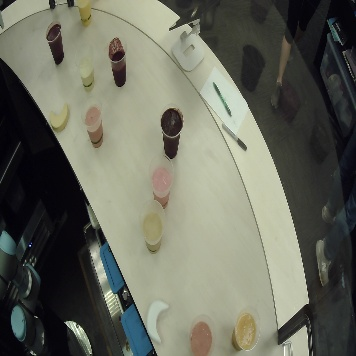full_cup: (138, 197, 169, 257), (157, 103, 188, 163), (147, 154, 178, 214), (78, 97, 110, 149), (101, 35, 133, 87), (66, 38, 98, 90), (230, 306, 263, 354), (187, 311, 218, 356), (43, 20, 68, 69), (73, 1, 95, 29)
puck: (144, 297, 175, 349), (43, 99, 72, 135)
